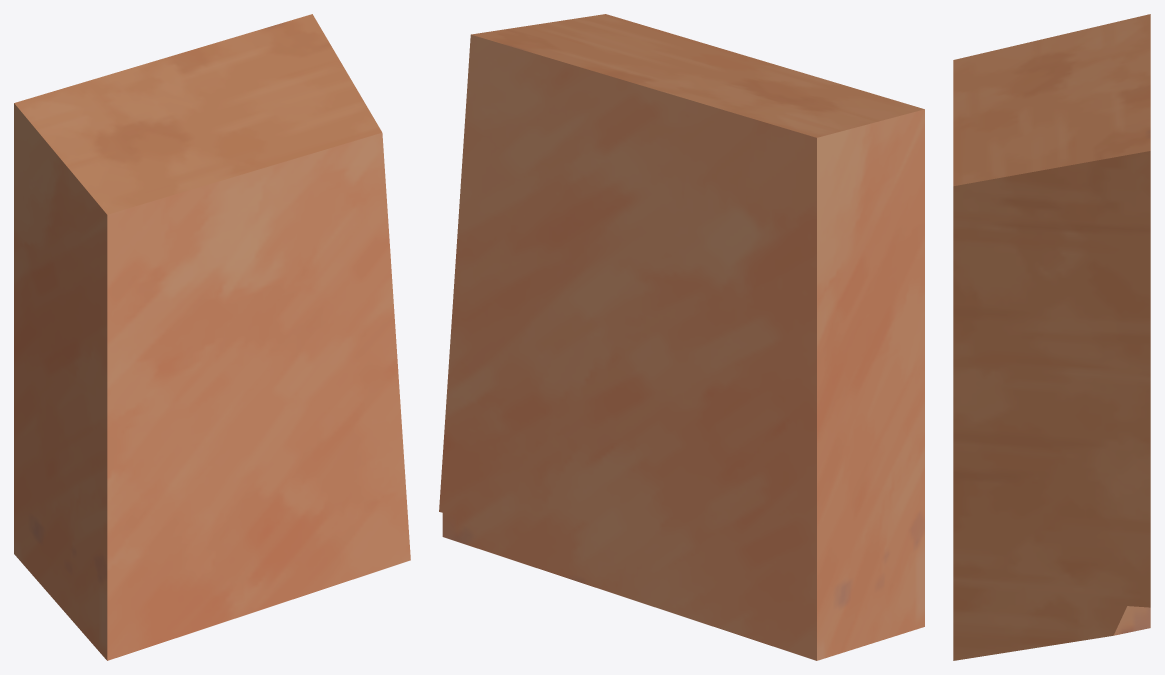
Rendered from wall_door_s00.fbx.
The picture shows the model from 3 angles, left to right: view 1: azimuth 30°, elevation 25°; view 2: azimuth 150°, elevation 25°; view 3: azimuth 270°, elevation 25°; orthographic projection. The views are drawn at different scales.
Visible parts, largest first — view 1: wall_door_s00; view 2: wall_door_s00; view 3: wall_door_s00.
Part boxes in pixels (x1,y1,x2,y2): wall_door_s00: (14, 14, 410, 660); wall_door_s00: (439, 14, 924, 660); wall_door_s00: (953, 14, 1150, 660).
Bounding box in the file's own units: 2.02 × 3 × 1.
